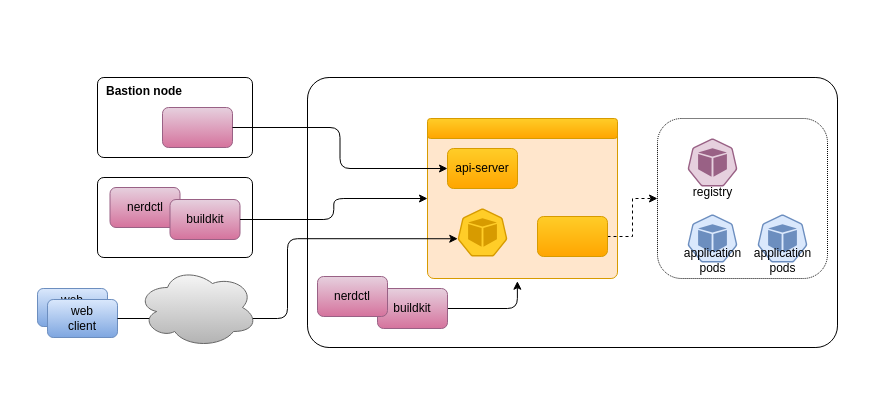
This 884x404 diagram has some shape labels left out. The box of each missing label's shape, as (x1, y1, x2, y2) in pixels:
CI node: (96, 176, 252, 258)
containerd: (536, 216, 608, 256)
K3s control plane: (426, 118, 618, 138)
K3s Server node: (306, 76, 838, 348)
kubectl: (162, 106, 232, 148)
traefik ingress controller: (456, 208, 508, 256)
